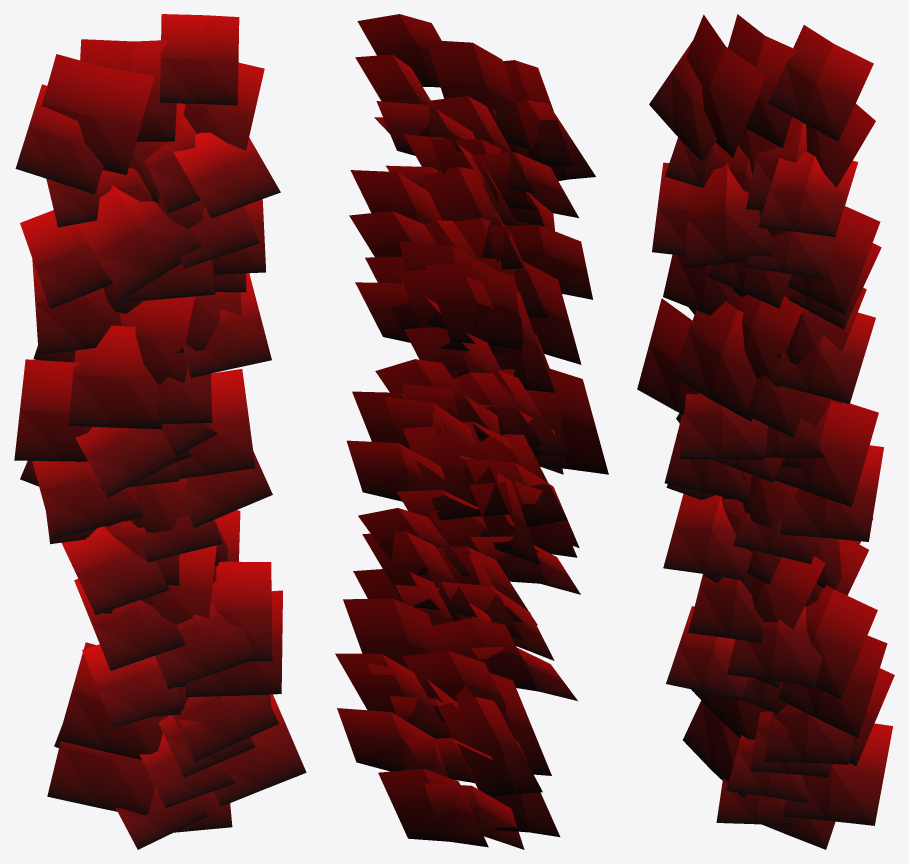
File: Ivy04.fbx
The picture shows the model from 3 angles, left to right: view 1: azimuth 30°, elevation 25°; view 2: azimuth 150°, elevation 25°; view 3: azimuth 330°, elevation 25°; orthographic projection. The views are drawn at different scales.
Visible parts, largest first — view 1: transform23; view 2: transform23; view 3: transform23.
Part boxes in pixels (<box>): transform23: <box>14,14,306,849</box>; transform23: <box>335,14,608,849</box>; transform23: <box>637,14,894,849</box>.
Size of the model in its own units: 174 by 503 by 65.6.
